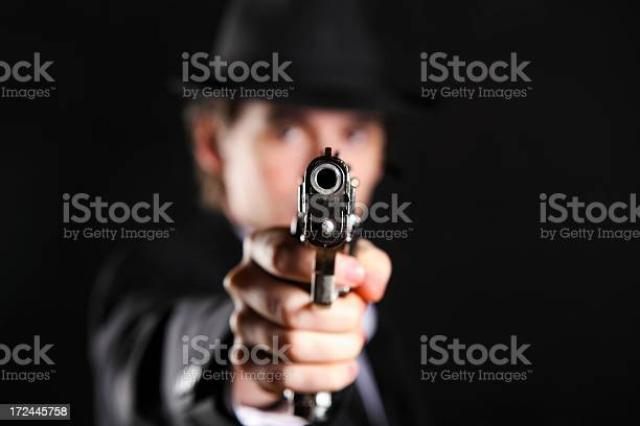handgun: (287, 143, 366, 426)
